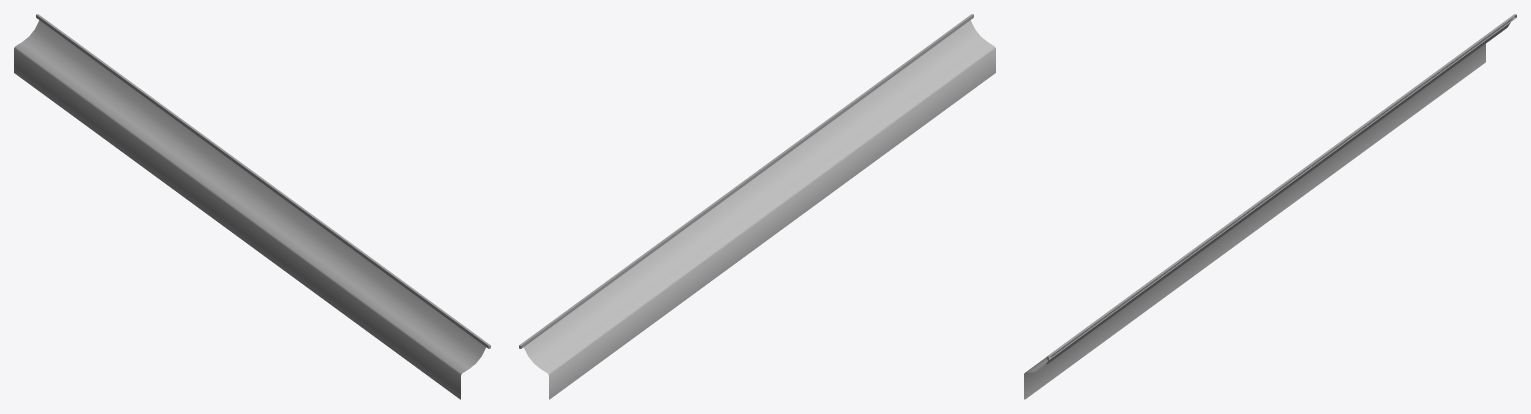
File: MB_Canopy_02.fbx
The picture shows the model from 3 angles, left to right: view 1: azimuth 30°, elevation 25°; view 2: azimuth 150°, elevation 25°; view 3: azimuth 330°, elevation 25°; orthographic projection. The views are drawn at different scales.
Visible parts, largest first — view 1: MB_Canopy_02; view 2: MB_Canopy_02; view 3: MB_Canopy_02.
Boxes of the visible parts, x1,y1,x2,y2 form: MB_Canopy_02: (14,14,490,399); MB_Canopy_02: (519,14,995,399); MB_Canopy_02: (1024,14,1516,399).
Bounding box in the file's own units: 14.11 × 24.91 × 406.
